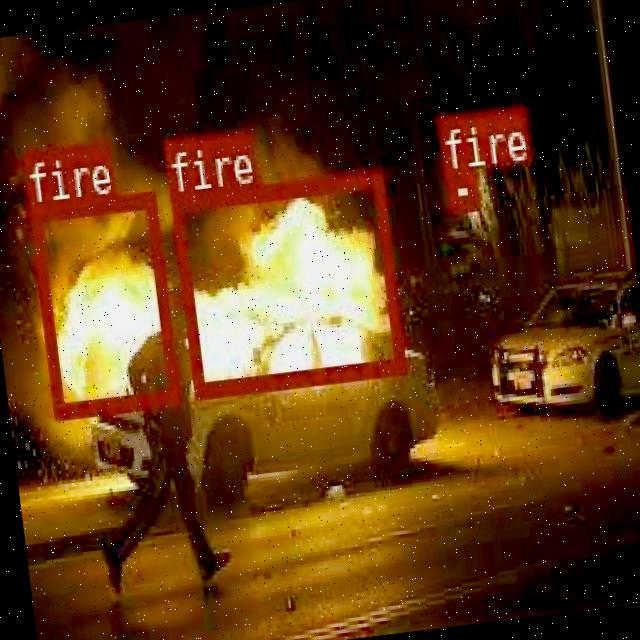fire: (168, 168, 404, 396), (27, 189, 177, 415), (442, 167, 478, 208)
